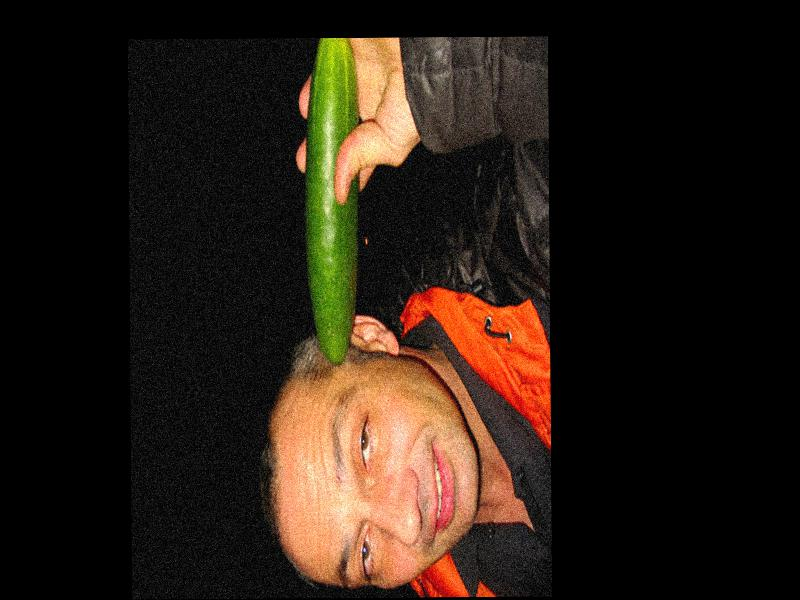Cucumber: (305, 39, 360, 367)
